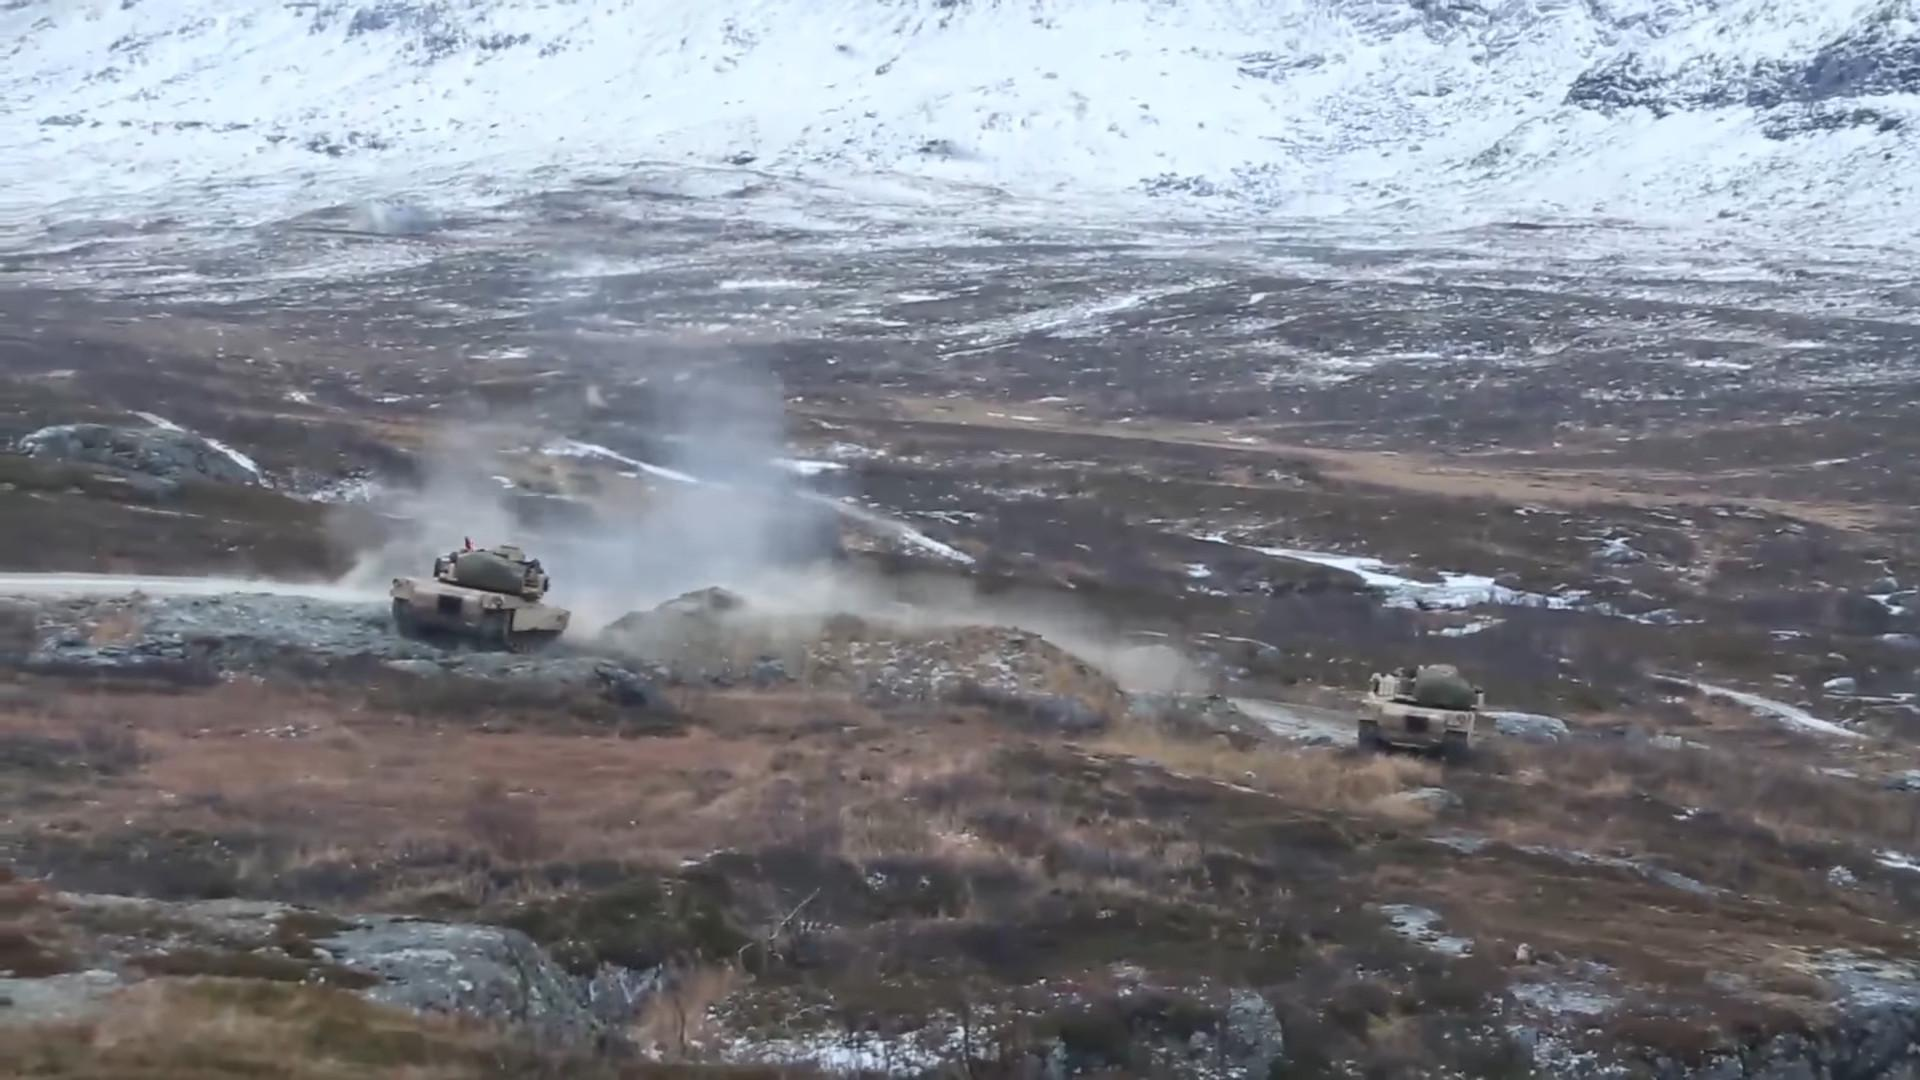tank: (389, 543, 571, 651), (1357, 663, 1495, 762)
